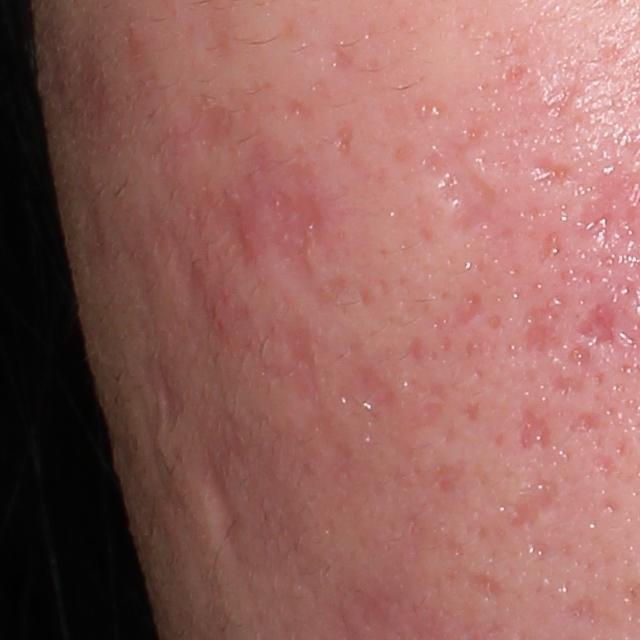atrophic_scar: (112, 202, 262, 395), (229, 108, 341, 311), (416, 113, 518, 253), (525, 36, 634, 140), (193, 442, 255, 603), (565, 298, 619, 377), (148, 331, 181, 456), (505, 474, 556, 537), (445, 288, 503, 332), (519, 152, 585, 189), (523, 294, 562, 353), (519, 400, 550, 449), (473, 566, 511, 598), (546, 367, 584, 396), (330, 118, 354, 158), (565, 595, 600, 621), (404, 331, 427, 370), (570, 408, 598, 436), (594, 454, 614, 481), (462, 399, 482, 421), (359, 284, 379, 305), (604, 497, 621, 513)
